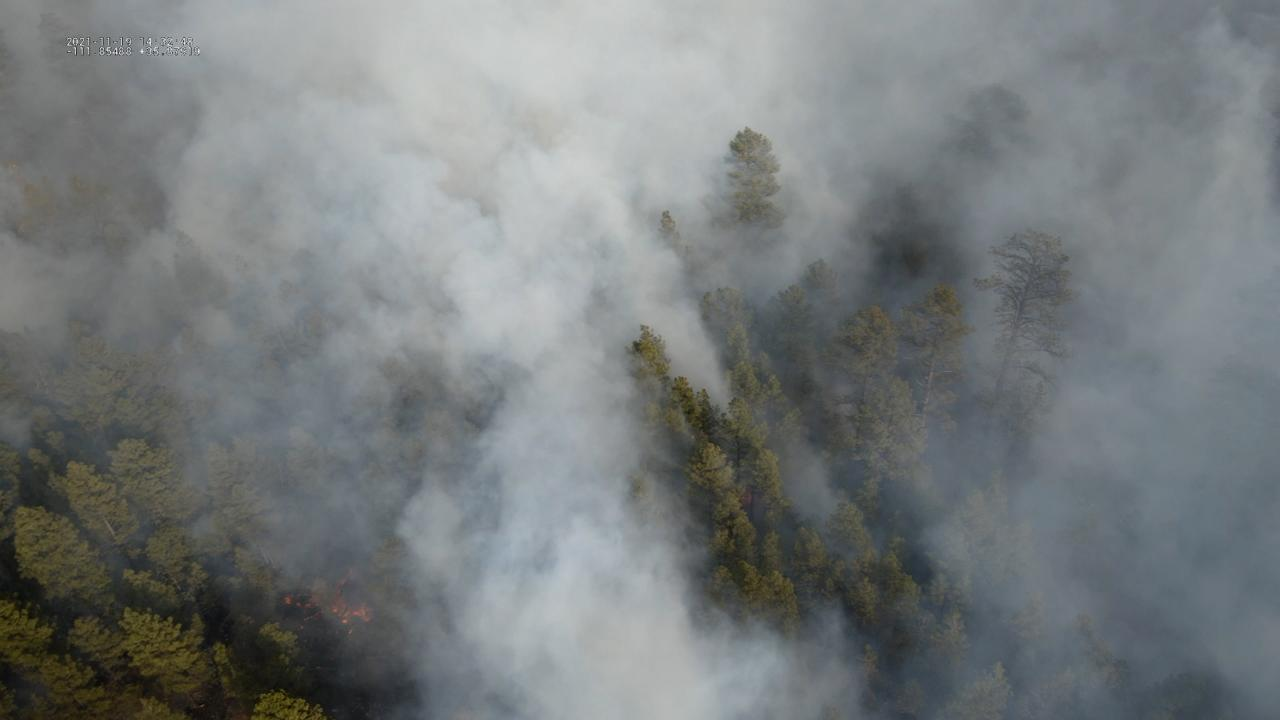fire: (278, 568, 374, 636)
smoke: (0, 0, 1280, 720)
